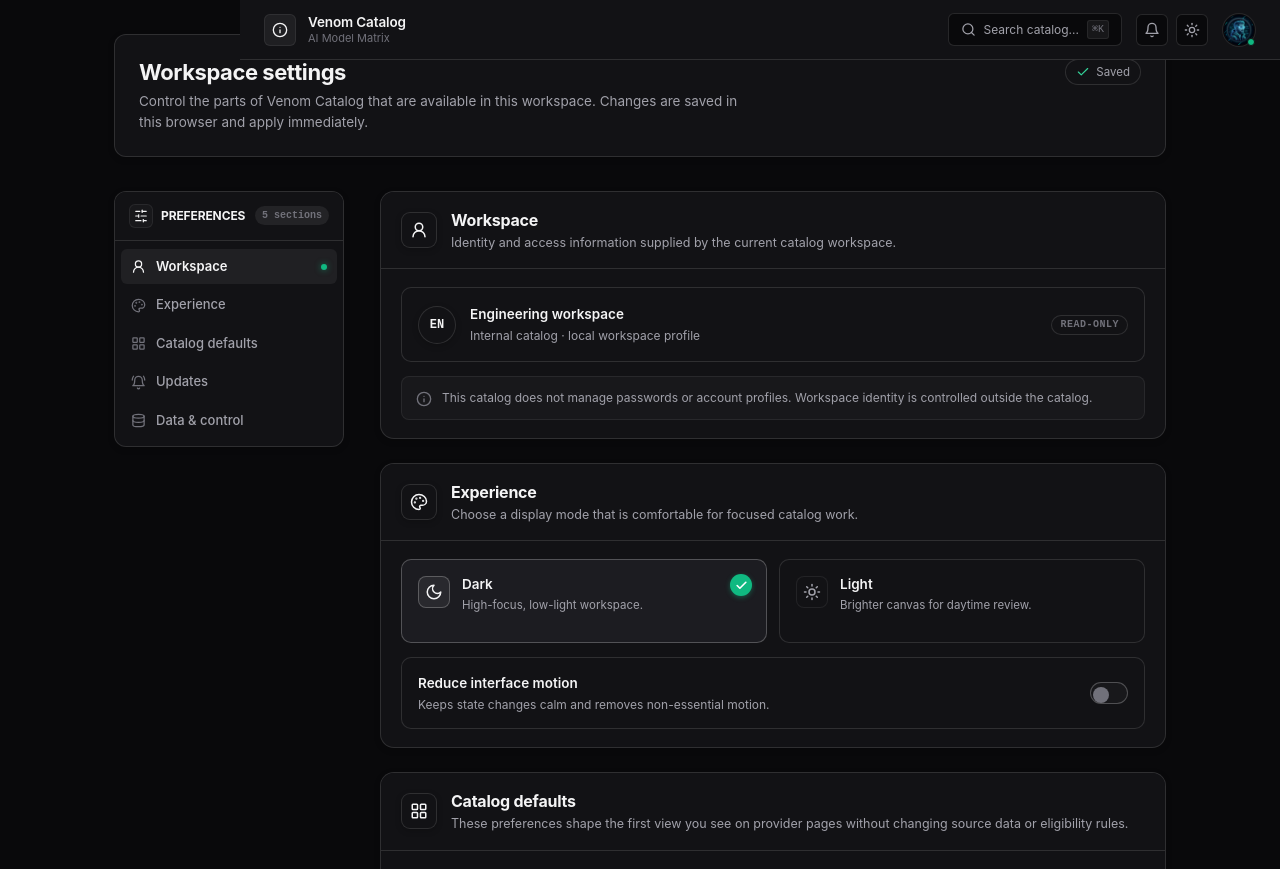
Test: Header and Settings theme synchronization › updates Header immediately when Settings changes and persists the shared value
The image size is (1280, 869).
Click the button "Light Brighter canvas for daytime review.".
click(962, 601)  # box [779, 559, 1145, 643]
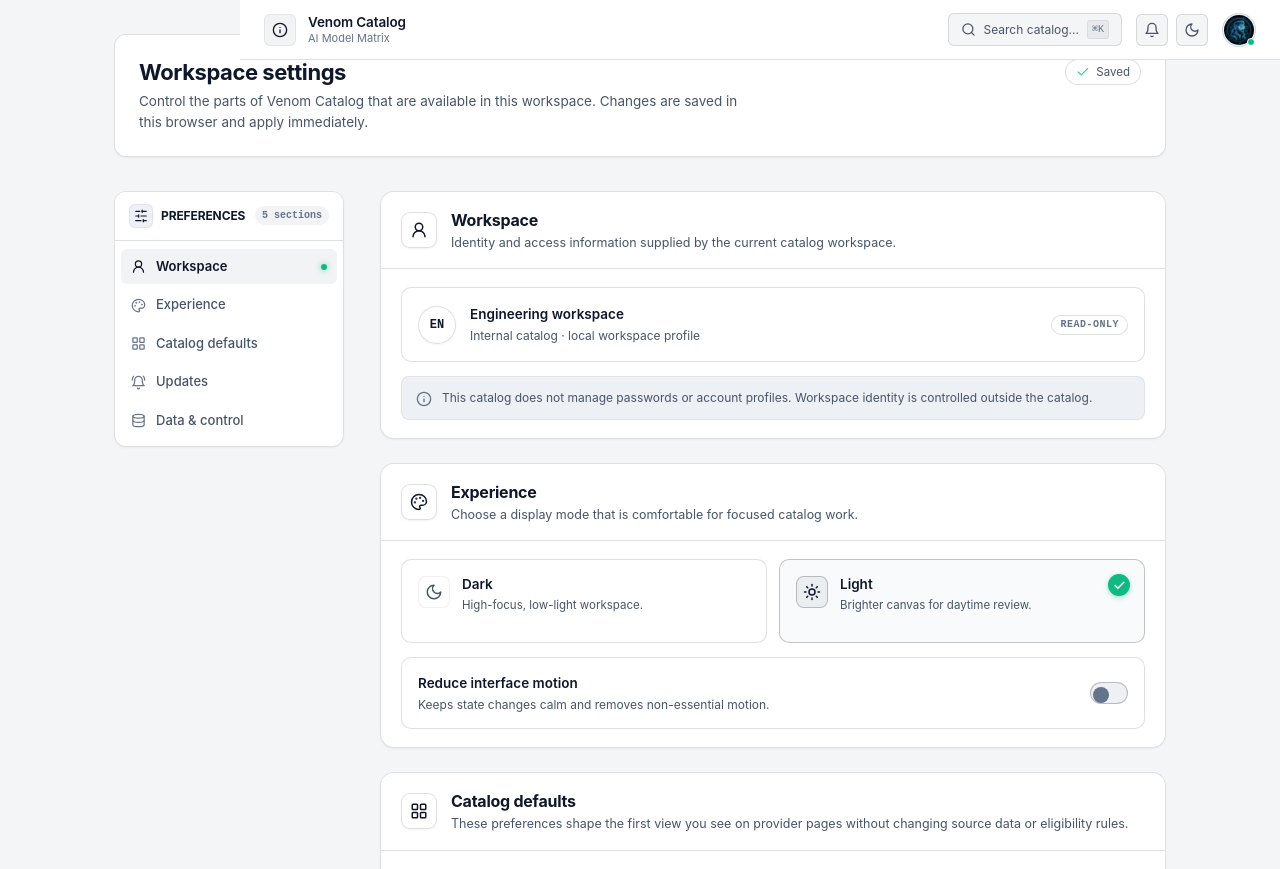
Expected: the button named "Switch to dark theme" is shown, [1176, 14, 1208, 46]
